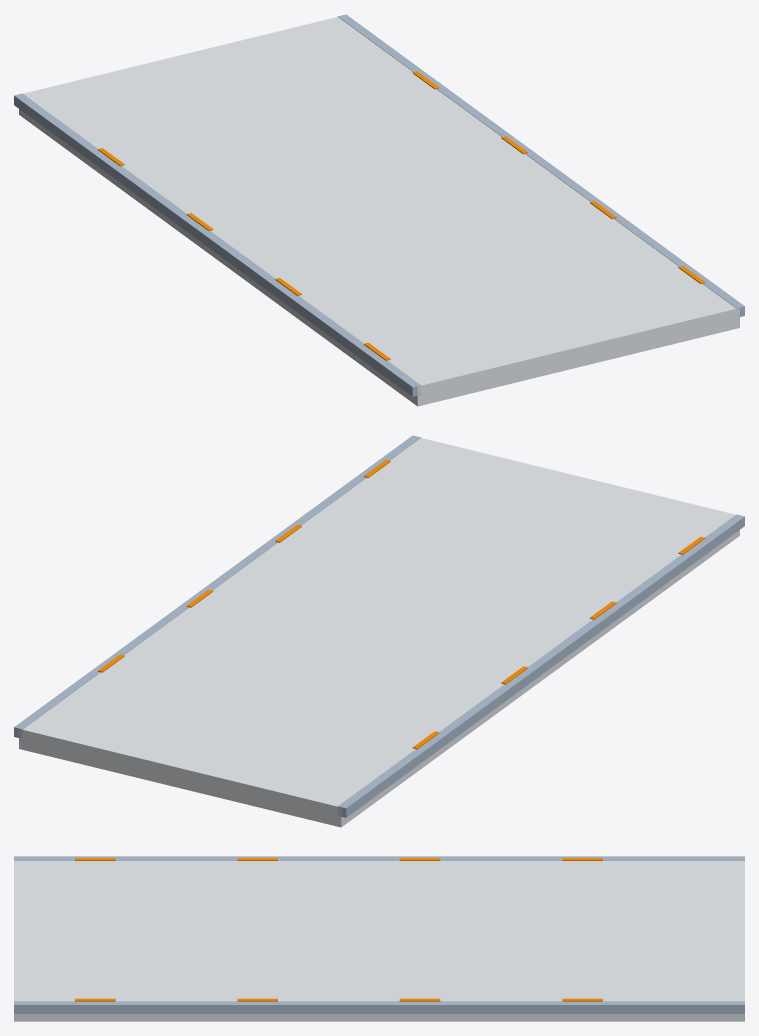
Rendered from TRK_straight__v001__model.fbx.
The picture shows the model from 3 angles, top to bottom: view 1: azimuth 30°, elevation 25°; view 2: azimuth 150°, elevation 25°; view 3: azimuth 270°, elevation 25°; orthographic projection. The views are drawn at different scales.
Visible parts, largest first — view 1: TRK_straight_Mesh; view 2: TRK_straight_Mesh; view 3: TRK_straight_Mesh.
Boxes of the visible parts, x1,y1,x2,y2 form: TRK_straight_Mesh: (14, 14, 744, 406); TRK_straight_Mesh: (14, 435, 744, 827); TRK_straight_Mesh: (14, 856, 744, 1021).
Size of the model in its own units: 8.66 by 0.5475 by 18.
1 material, 1 textured.
